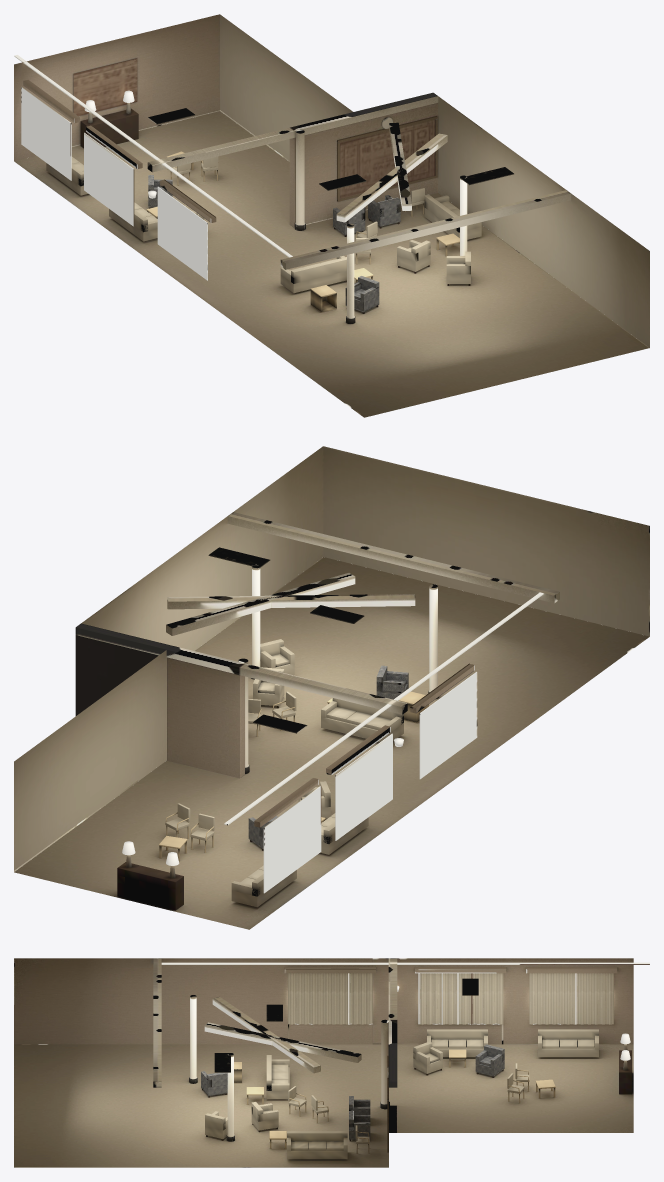
File: albright-ss-america.glb
3 views of the same model, one above another, from view 1: azimuth 30°, elevation 25°; view 2: azimuth 150°, elevation 25°; view 3: azimuth 270°, elevation 25° (orthographic). The views are drawn at different scales.
Parts seen in each view (by area): view 1: floor, plain_walls, panelled_walls, ceiling_beams, daylight_windows, artifact_tapestry, back_panel, artifact_columns, pelmets, lamps_console, artifact_sofa, daylight_trough (+10 smaller); view 2: floor, plain_walls, ceiling_beams, daylight_windows, panelled_walls, lamps_console, artifact_sofa, pelmets, artifact_columns, daylight_trough, ceiling_vents, sofa_b2 (+4 smaller); view 3: floor, panelled_walls, artifact_window_curtains, ceiling_beams, pelmets, artifact_columns, sofa_b2, sofa_r, daylight_trough, sofa_b1, artifact_sofa, ceiling_vents (+8 smaller).
Boxes of the visible parts, <box> form: floor: <box>14,111,649,417</box>; plain_walls: <box>220,14,649,347</box>; panelled_walls: <box>14,14,437,227</box>; ceiling_beams: <box>147,92,571,269</box>; daylight_windows: <box>21,87,207,280</box>; artifact_tapestry: <box>340,119,435,198</box>; back_panel: <box>73,58,137,115</box>; artifact_columns: <box>295,130,467,323</box>; pelmets: <box>23,79,216,222</box>; lamps_console: <box>80,90,156,198</box>; artifact_sofa: <box>280,256,346,293</box>; daylight_trough: <box>14,55,292,257</box>; floor: <box>14,557,649,929</box>; plain_walls: <box>14,446,649,871</box>; ceiling_beams: <box>75,512,559,714</box>; daylight_windows: <box>263,672,477,893</box>; panelled_walls: <box>75,635,244,778</box>; lamps_console: <box>117,738,403,910</box>; artifact_sofa: <box>321,698,403,741</box>; pelmets: <box>254,663,474,827</box>; artifact_columns: <box>238,564,438,773</box>; daylight_trough: <box>224,592,543,825</box>; ceiling_vents: <box>208,547,364,733</box>; sofa_b2: <box>231,865,296,907</box>; floor: <box>14,1044,633,1167</box>; panelled_walls: <box>14,958,633,1044</box>; artifact_window_curtains: <box>288,973,613,1024</box>; ceiling_beams: <box>153,958,397,1087</box>; pelmets: <box>284,967,617,973</box>; artifact_columns: <box>189,995,389,1141</box>; sofa_b2: <box>538,1029,598,1057</box>; sofa_r: <box>287,1131,347,1159</box>; daylight_trough: <box>161,962,649,964</box>; sofa_b1: <box>427,1029,487,1057</box>; artifact_sofa: <box>266,1055,289,1099</box>; ceiling_vents: <box>214,978,478,1072</box>.
Size of the model in its own units: 9.04 by 2.9 by 19.5.
3 materials, 2 textured.
